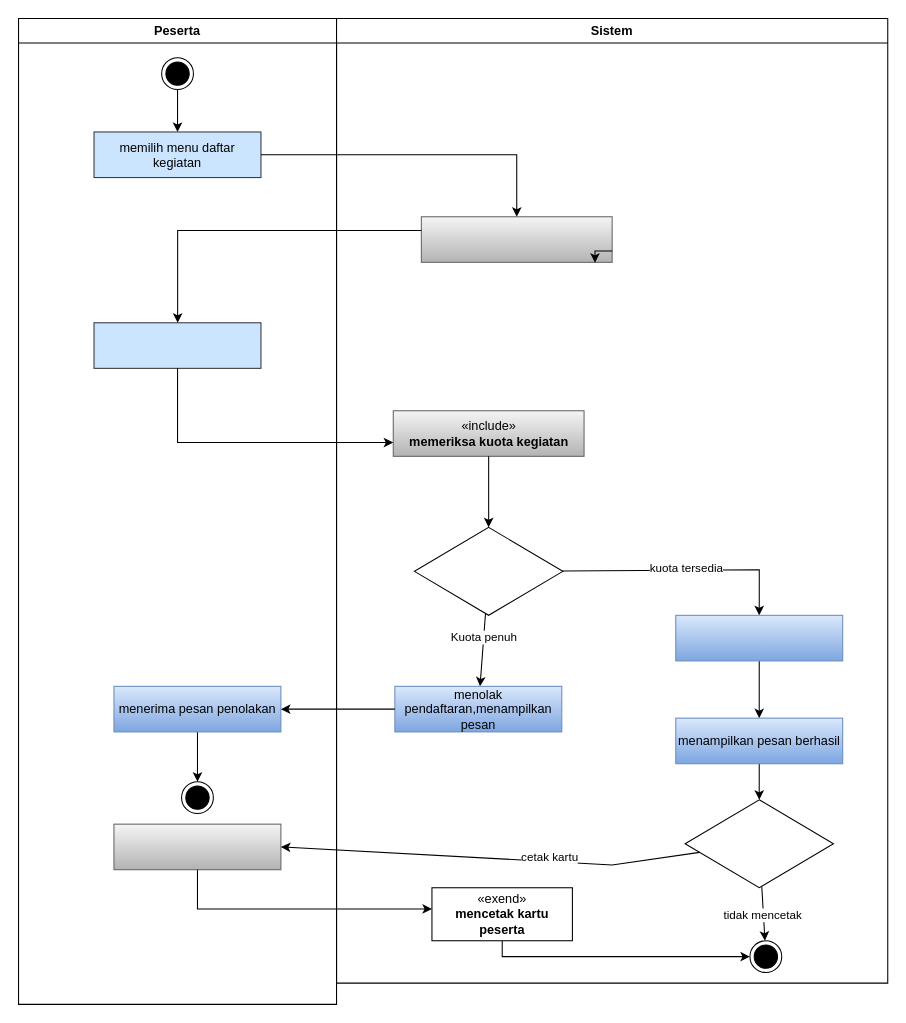
Some shapes in this 906 by 1023 pixel diagram are drawn without their labels. Each missing label, with the centre of its shape:
memilih cetak kartu peserta: the point at 197,846
memilih kegiatan dan menekan daftar: the point at 177,345
menyimpan data berstatus terdaftar: the point at 759,637
«include» melihat daftar kegiatan: the point at 516,239
